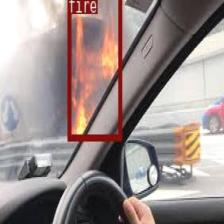fire: (68, 0, 122, 140)
